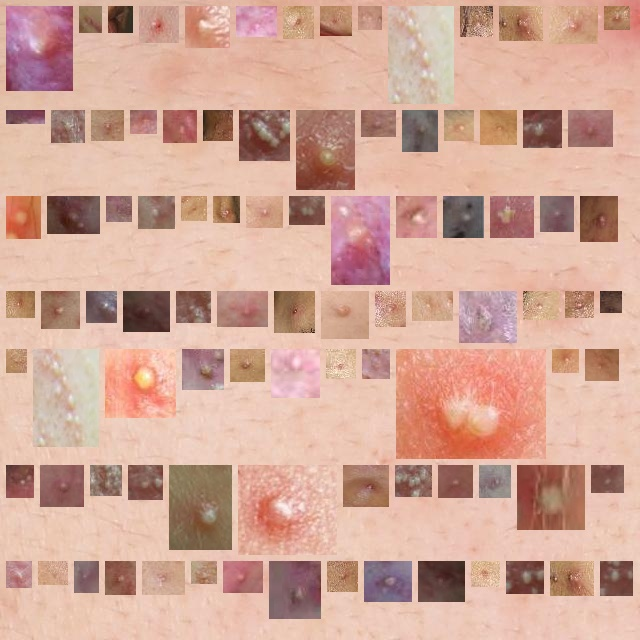pustule: (404, 357, 538, 451), (246, 473, 329, 547), (396, 14, 446, 96), (41, 357, 91, 439), (14, 14, 65, 83), (177, 473, 224, 542), (339, 204, 382, 277), (113, 357, 168, 410), (304, 118, 347, 182), (525, 473, 577, 522), (467, 299, 509, 335), (277, 569, 313, 611), (247, 118, 282, 153), (279, 357, 312, 390), (329, 299, 361, 331), (55, 204, 92, 226), (372, 569, 404, 594), (351, 473, 381, 499), (131, 299, 162, 324), (426, 569, 457, 594), (193, 14, 222, 40), (451, 204, 479, 230), (498, 204, 526, 230), (48, 473, 76, 499), (557, 14, 590, 36), (225, 299, 260, 319), (588, 204, 610, 234), (404, 204, 429, 230), (282, 299, 307, 325), (190, 357, 216, 382), (576, 118, 605, 139), (507, 14, 535, 33), (558, 569, 586, 588), (244, 14, 269, 35), (410, 118, 430, 144), (14, 204, 33, 231), (531, 118, 554, 140), (49, 299, 72, 321), (147, 14, 171, 35), (150, 569, 177, 587), (488, 118, 509, 137), (231, 569, 255, 585), (514, 569, 536, 586), (136, 473, 155, 492), (548, 204, 566, 224), (146, 204, 167, 221), (420, 299, 445, 313), (254, 204, 275, 220), (403, 473, 424, 489), (238, 357, 257, 374), (446, 473, 465, 490), (608, 569, 625, 588), (59, 118, 77, 135), (171, 118, 189, 135), (184, 299, 203, 315), (383, 299, 398, 319), (593, 357, 611, 373), (487, 473, 503, 490), (113, 569, 128, 587), (297, 204, 317, 217), (531, 299, 551, 312), (291, 14, 306, 31), (468, 14, 485, 29), (99, 118, 116, 133), (94, 299, 109, 315), (98, 473, 114, 488), (335, 569, 350, 584), (328, 14, 344, 28), (211, 118, 225, 133), (452, 118, 466, 133), (369, 118, 388, 129), (14, 473, 26, 490), (599, 473, 616, 485), (334, 357, 348, 371), (370, 357, 382, 371), (82, 569, 91, 585), (14, 299, 27, 310), (573, 299, 586, 310), (479, 569, 492, 579), (221, 204, 232, 215), (46, 569, 60, 577), (14, 569, 24, 580), (114, 204, 124, 214), (116, 14, 125, 25), (189, 204, 199, 213), (138, 118, 149, 126), (560, 357, 571, 365), (612, 14, 622, 22), (87, 14, 94, 25), (199, 569, 209, 576), (366, 14, 374, 22), (14, 357, 19, 365), (608, 299, 614, 305)
